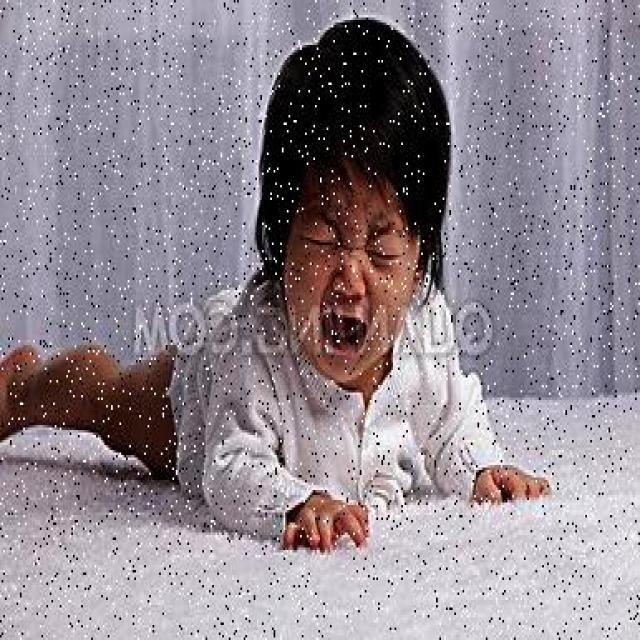fall: (6, 62, 506, 498)
